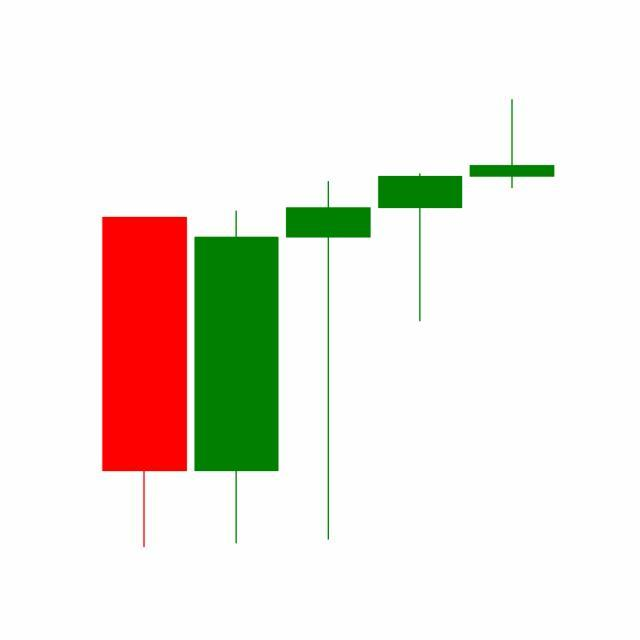Gravestone Doji: (466, 98, 559, 190)
